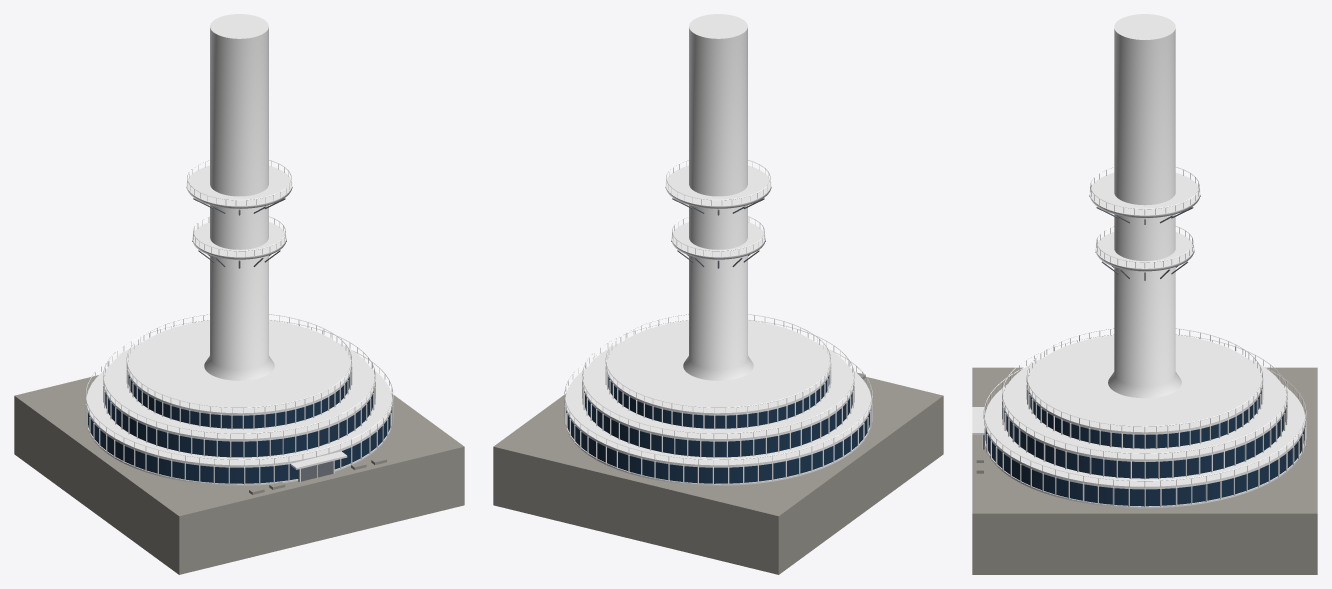
The model's file is base-prebuilt_close.fbx.
3 views of the same model, side by side, from view 1: azimuth 30°, elevation 25°; view 2: azimuth 150°, elevation 25°; view 3: azimuth 270°, elevation 25° (orthographic). The views are drawn at different scales.
Parts seen in each view (by area): view 1: landmark-great_tower/0/base-prebuilt_close; view 2: landmark-great_tower/0/base-prebuilt_close; view 3: landmark-great_tower/0/base-prebuilt_close.
Part boxes in pixels (bbox=[...]): landmark-great_tower/0/base-prebuilt_close: bbox=[14, 14, 464, 574]; landmark-great_tower/0/base-prebuilt_close: bbox=[493, 14, 943, 574]; landmark-great_tower/0/base-prebuilt_close: bbox=[972, 14, 1317, 574].
Size of the model in its own units: 56 by 85 by 56.
